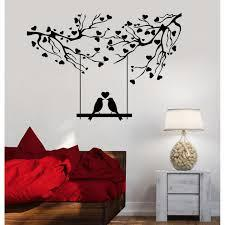bed: (7, 146, 126, 225)
lamp: (164, 106, 205, 169)
table: (156, 170, 211, 223)
wall art: (28, 10, 180, 119)
